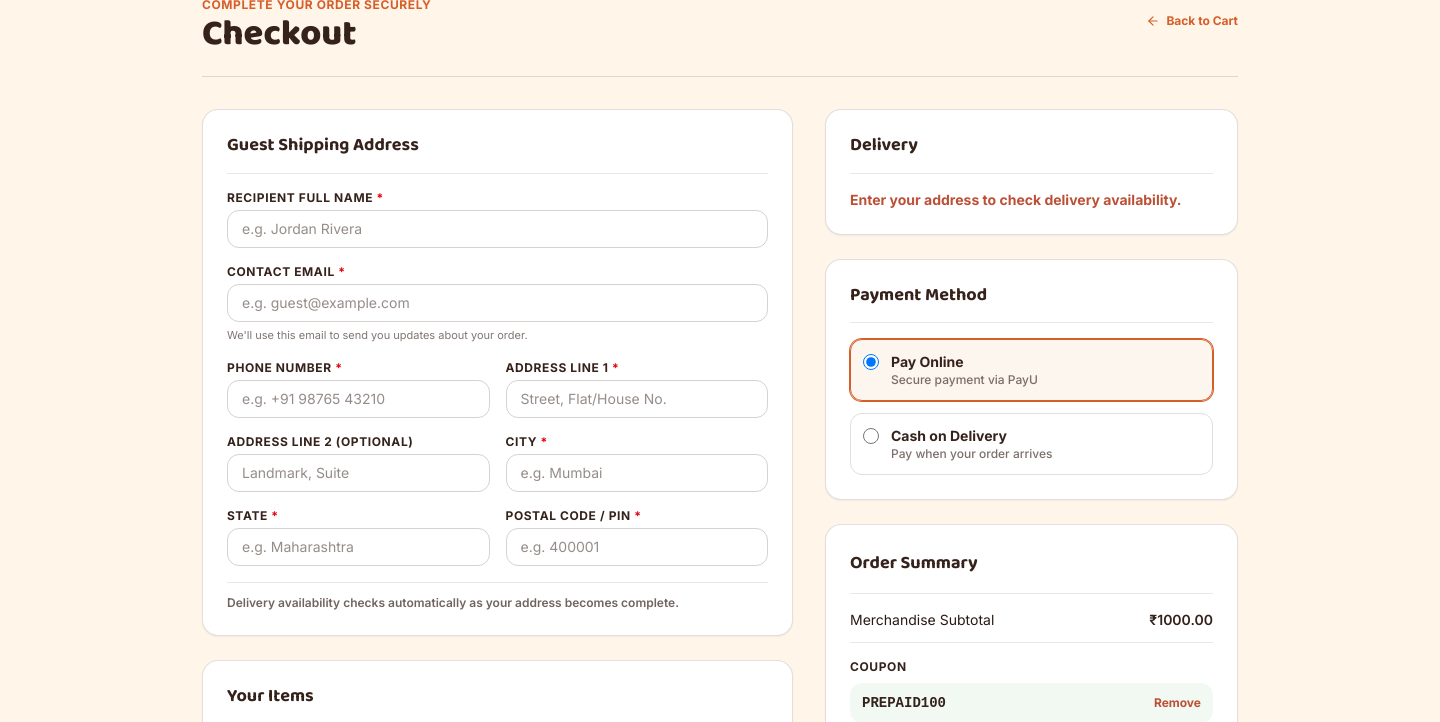
Checkout payment-method coupon state › a late PayU preview never overwrites the COD selection that replaced it
This screenshot has width=1440, height=722.
Expected: the heading "Guest Shipping Address" is shown, [227,134,419,157]
Type "Guest User" into the field labelled "Recipient Full Name *". click: x=498, y=229
box: [227,210,768,248]
Type "+91 98765 00000" into the field labelled "Phone Number *". click: x=358, y=399
box: [227,380,490,418]
Type "123 Street" into the field labelled "Address Line 1 *". click: x=637, y=399
box: [506,380,768,418]
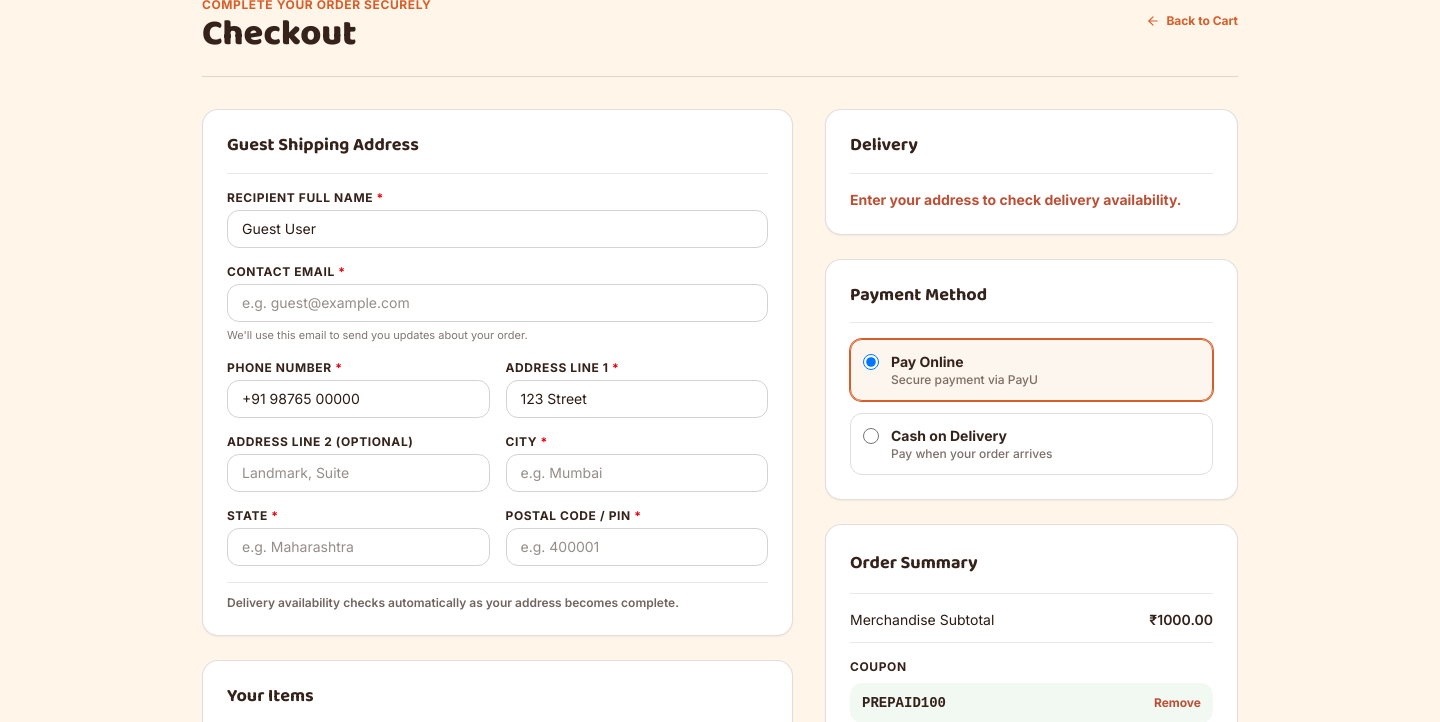
Type "Mumbai" into the field labelled "City *". click: x=637, y=473
box: [506,454,768,492]
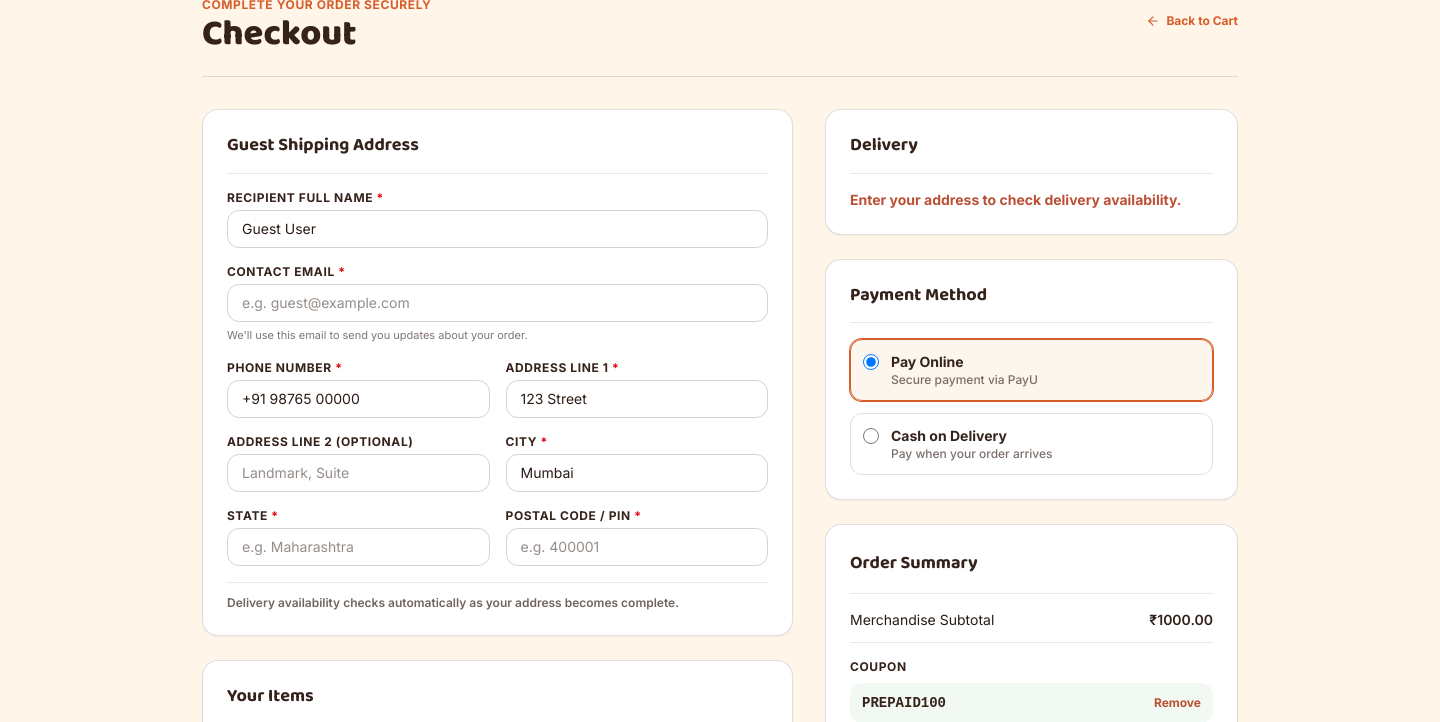
Type "Maharashtra" into the field labelled "State *". click: x=358, y=547
box: [227,528,490,566]
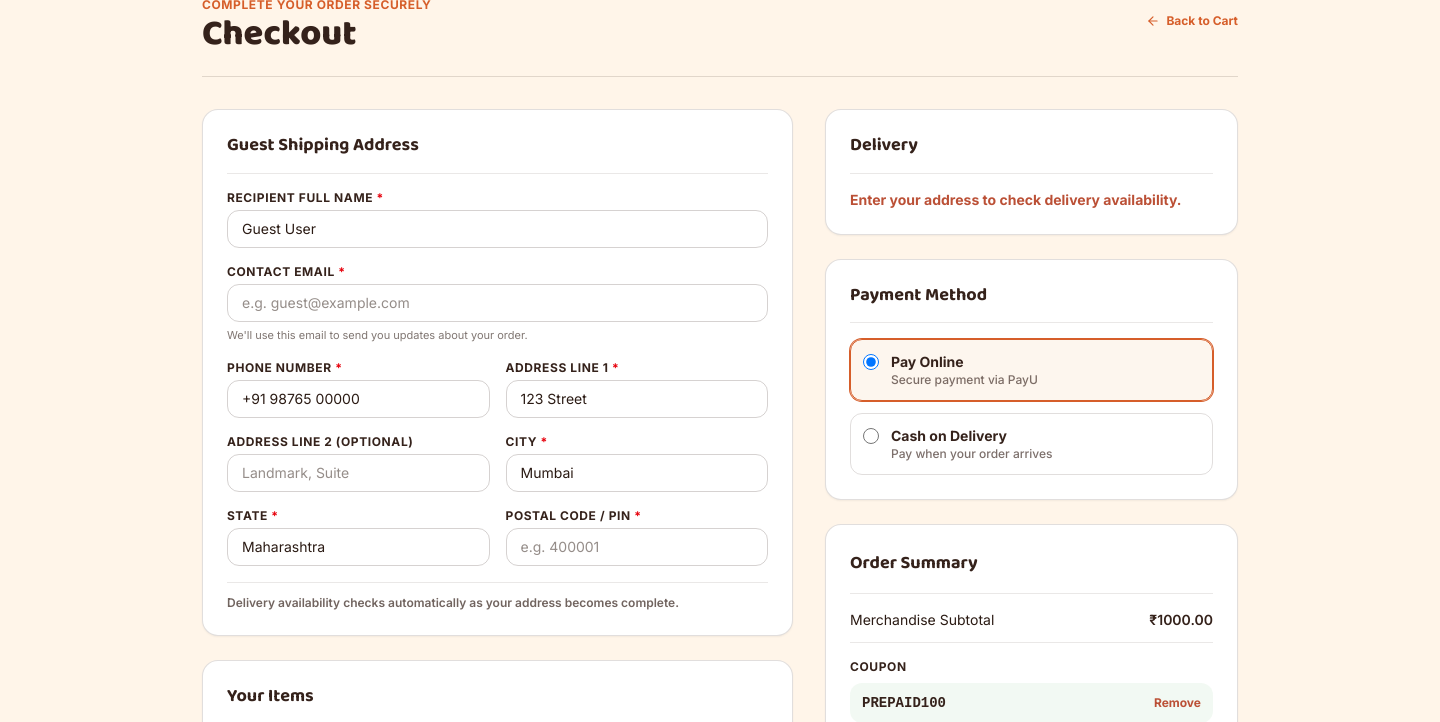
Type "400001" into the field labelled "Postal Code / PIN *". click: x=637, y=547
box: [506,528,768,566]
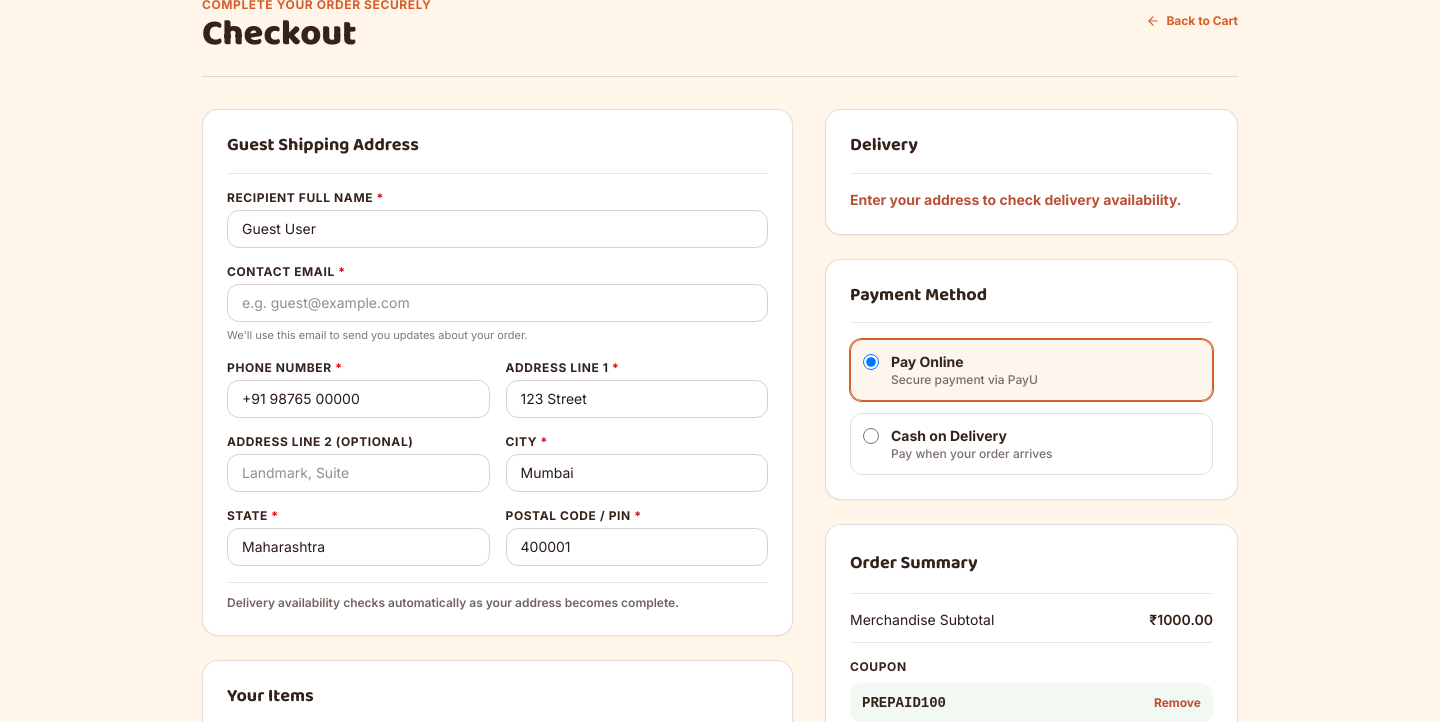
Type "guest@example.com" into the field labelled "Contact Email *". click: x=498, y=303
box: [227,284,768,322]
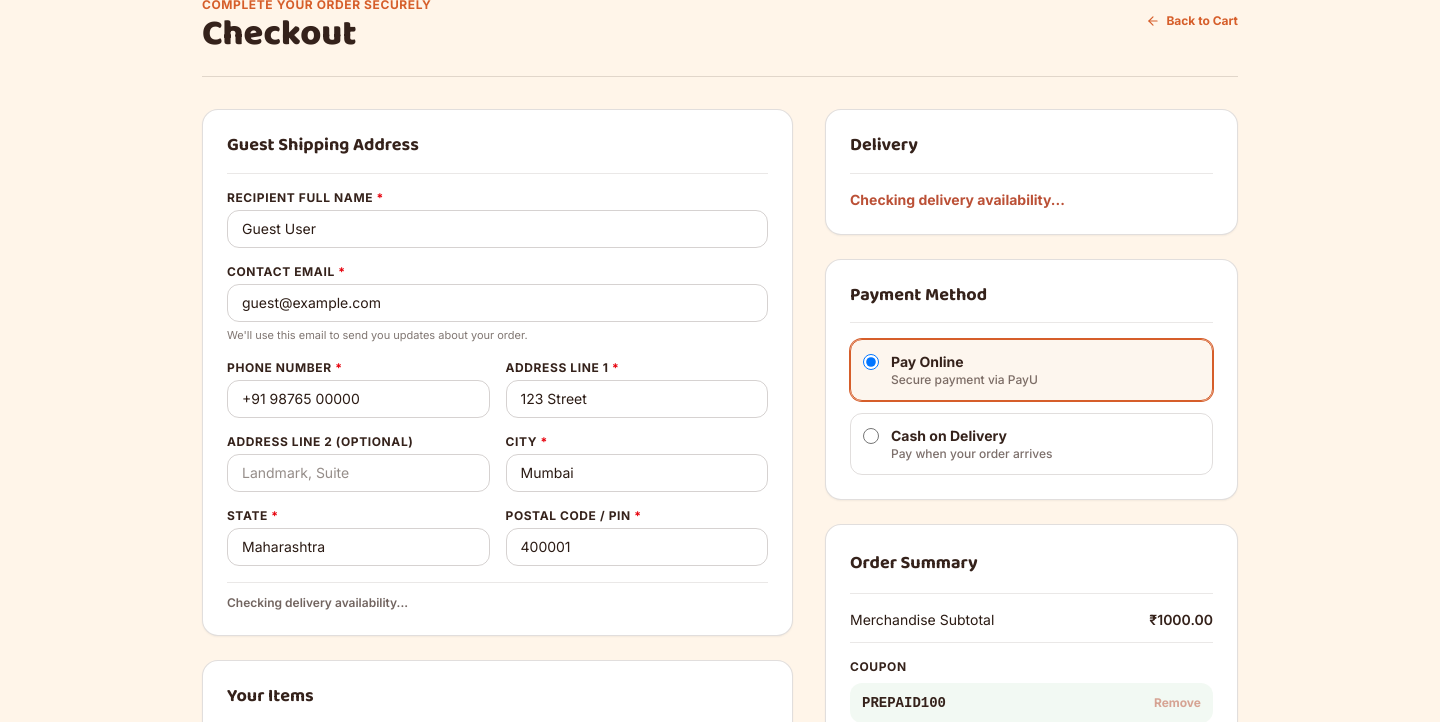
Click the radio button labelled "Cash on Delivery Pay when your order arrives". click: x=871, y=436
box: [863,428,879,444]
(page scrolled)
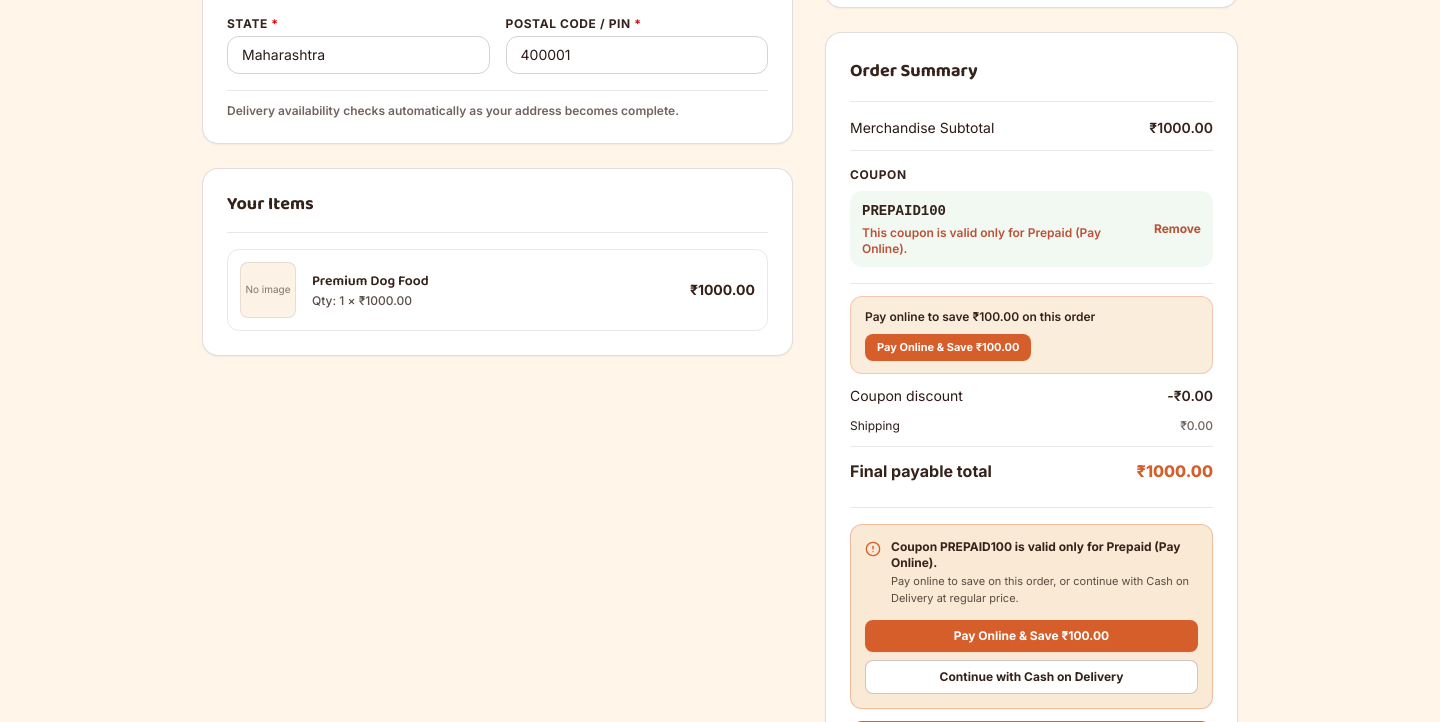
Expected: the button "Pay Online & Save ₹100.00" below "Pay online to save ₹100.00 on this order" is shown, [865,334,1031,361]
